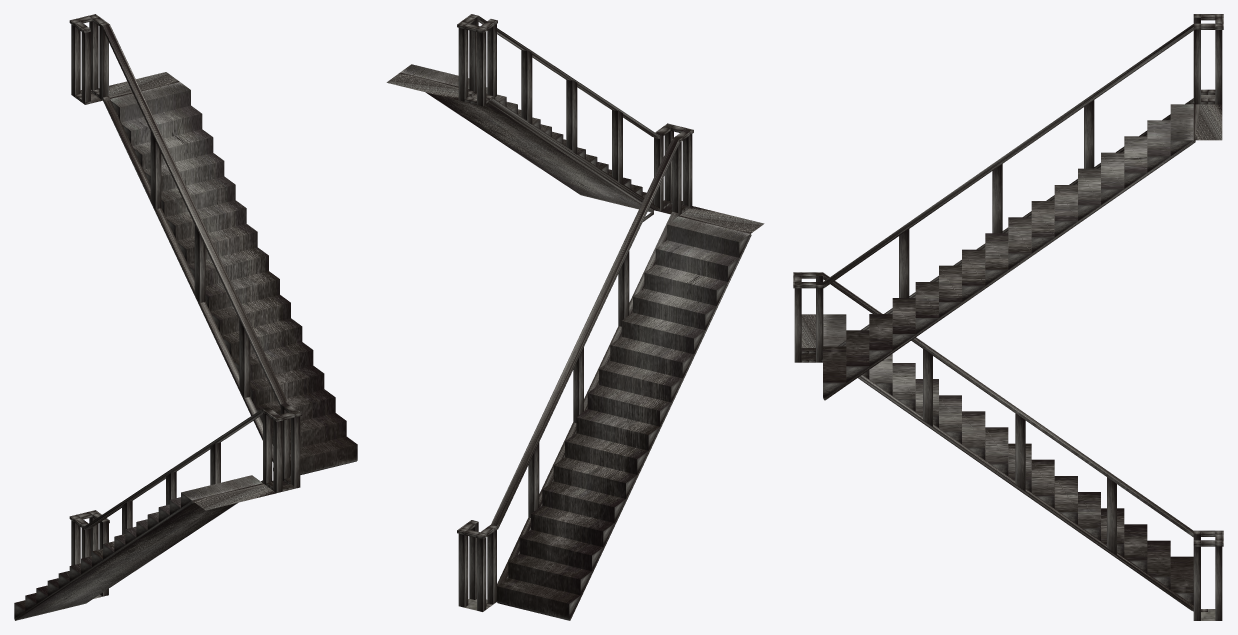
The model's file is stair.glb.
3 views of the same model, side by side, from view 1: azimuth 30°, elevation 25°; view 2: azimuth 150°, elevation 25°; view 3: azimuth 270°, elevation 25° (orthographic). The views are drawn at different scales.
Parts seen in each view (by area): view 1: Object_2; view 2: Object_2; view 3: Object_2.
Boxes of the visible parts, <box> form: Object_2: <box>14,14,357,620</box>; Object_2: <box>386,14,764,620</box>; Object_2: <box>793,14,1223,620</box>.
Bounding box in the file's own units: 13.99 × 46.16 × 30.2.
1 material, 1 textured.
